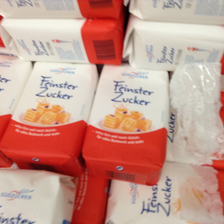sugar: (82, 62, 169, 188), (1, 61, 96, 172), (107, 161, 224, 223), (1, 18, 125, 67), (120, 20, 224, 68)
